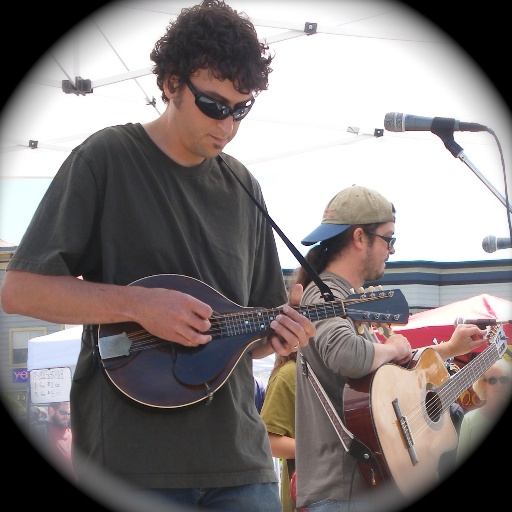hand: (136, 286, 213, 356), (268, 282, 316, 357), (447, 321, 489, 357), (383, 331, 412, 365)
